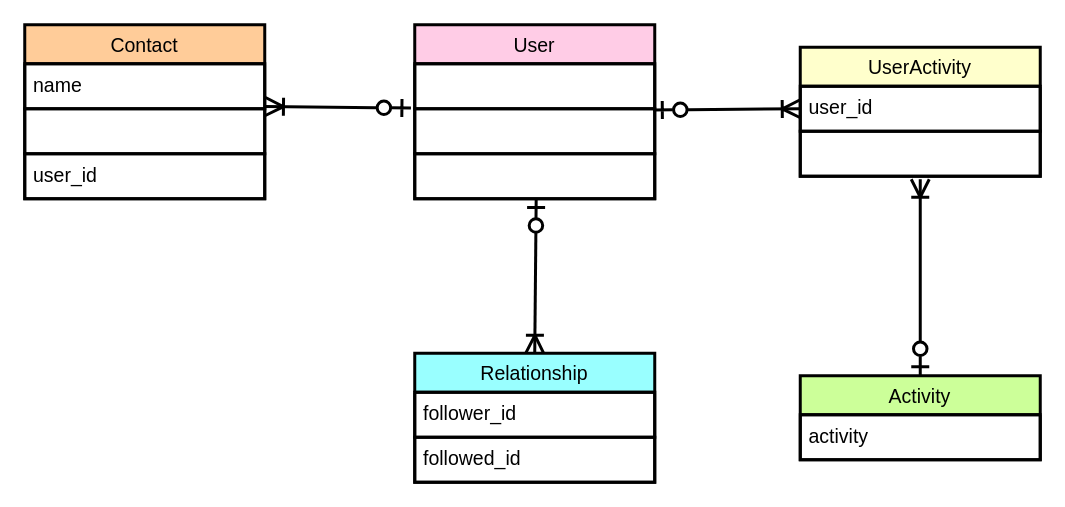
Some shapes in this 1065 by 507 pixel diagram are drawn without their labels. Here are the shapes that lost their labels. From the top down, the centre of each, then its label:
At point 534,86: "user_name".
At point 144,130: "content".
At point 534,130: "email".
At point 919,153: "activity_id".
At point 534,176: "encrypted_passowrd".
